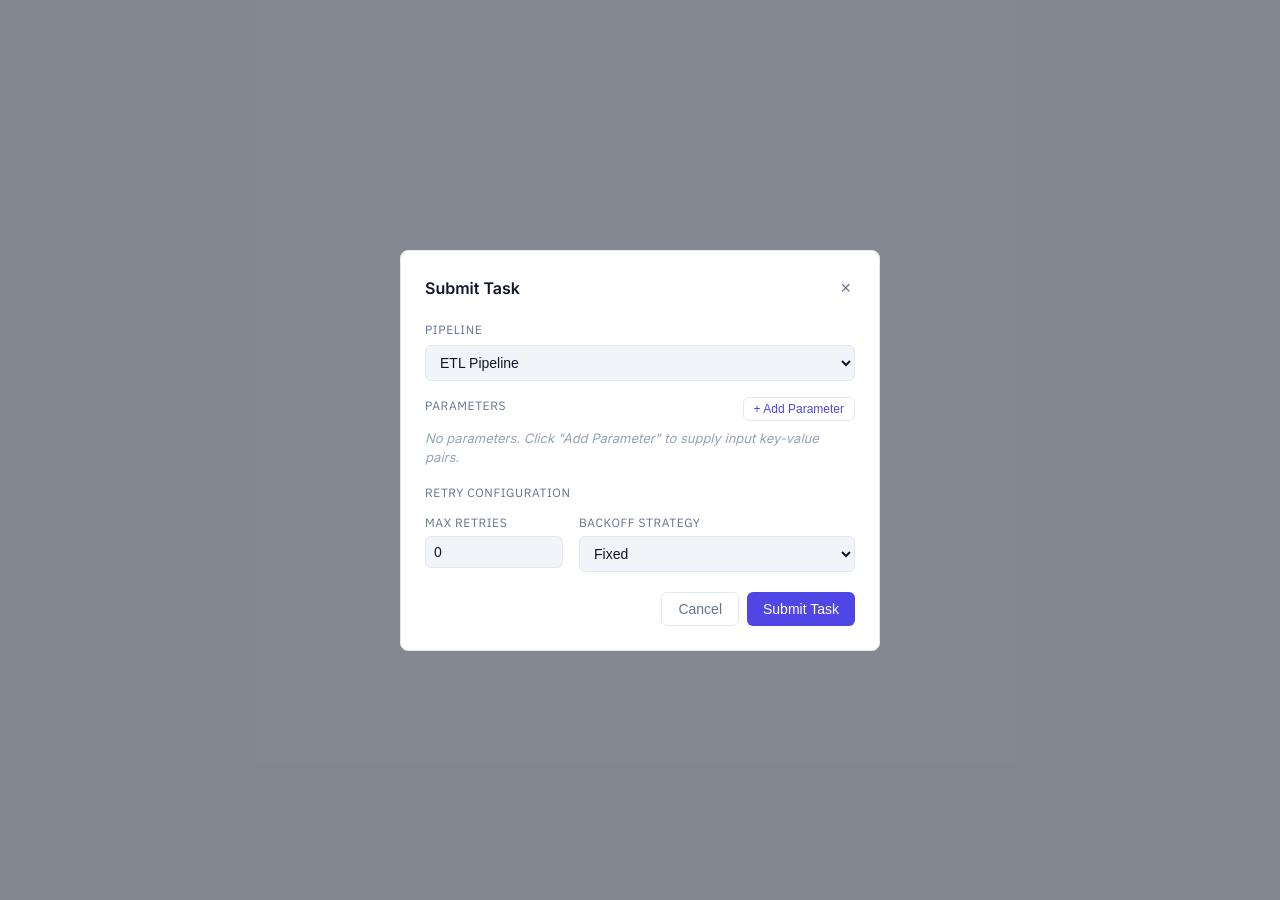
Test case: SubmitTaskModal — parameter form › adds a new parameter row when "Add Parameter" is clicked
The image size is (1280, 900).
What coordinates should you click on to do the following:
click the button "+ Add Parameter"
I would click on:
 (799, 408)
Its box is [743,396,855,420].
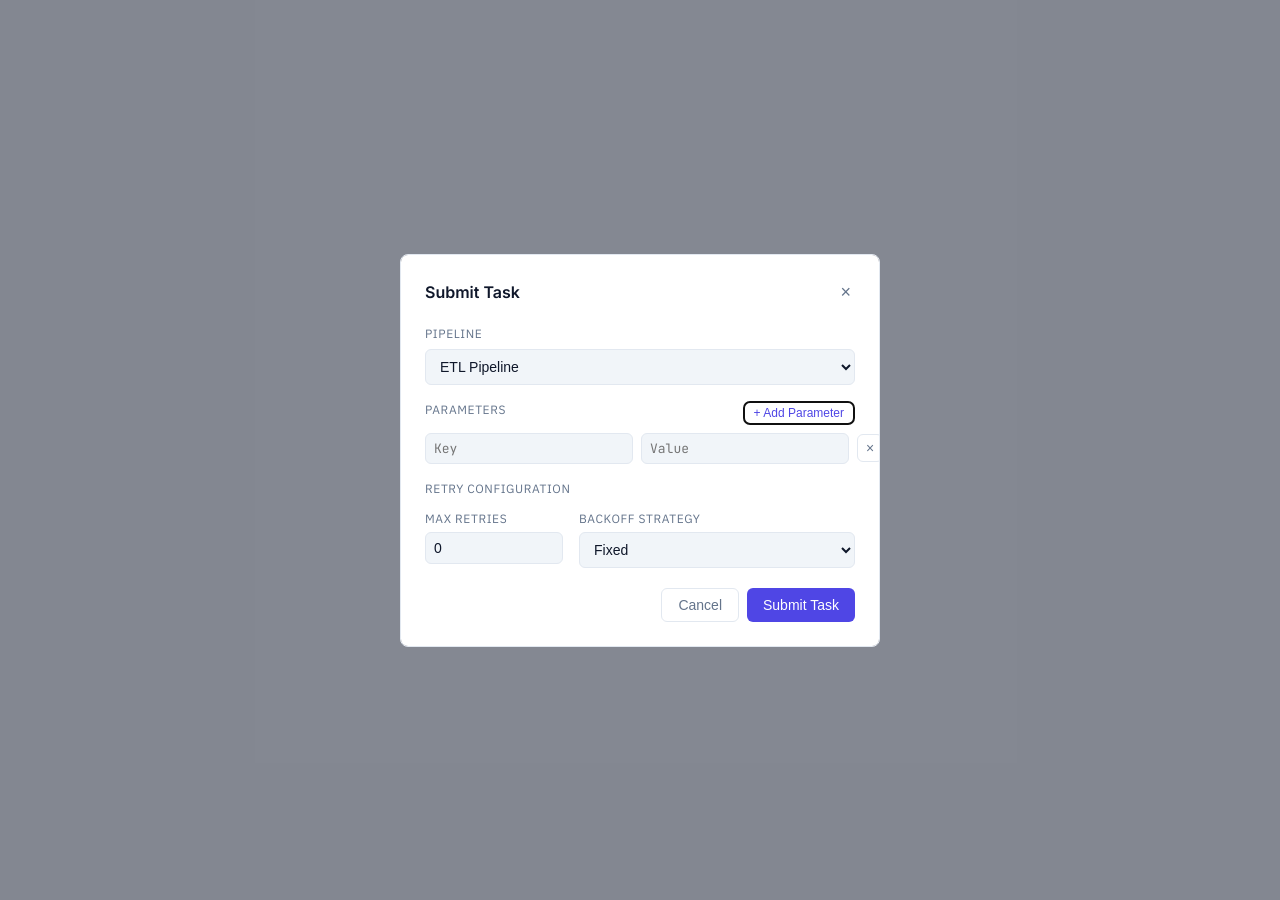
Result: the field with placeholder "Key" is shown at [425,432,633,464]
